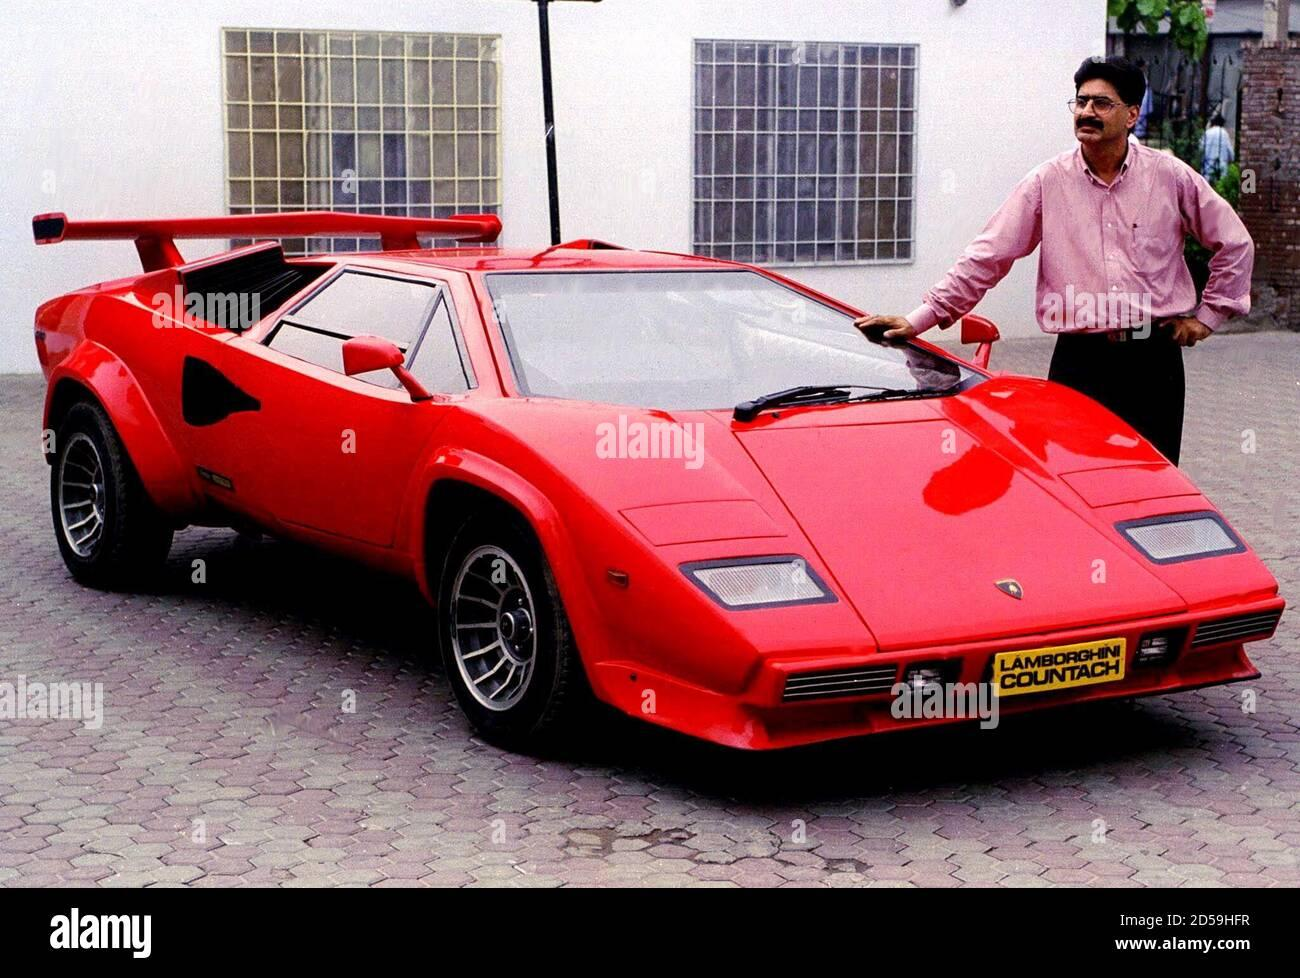windshield: (479, 267, 993, 385)
